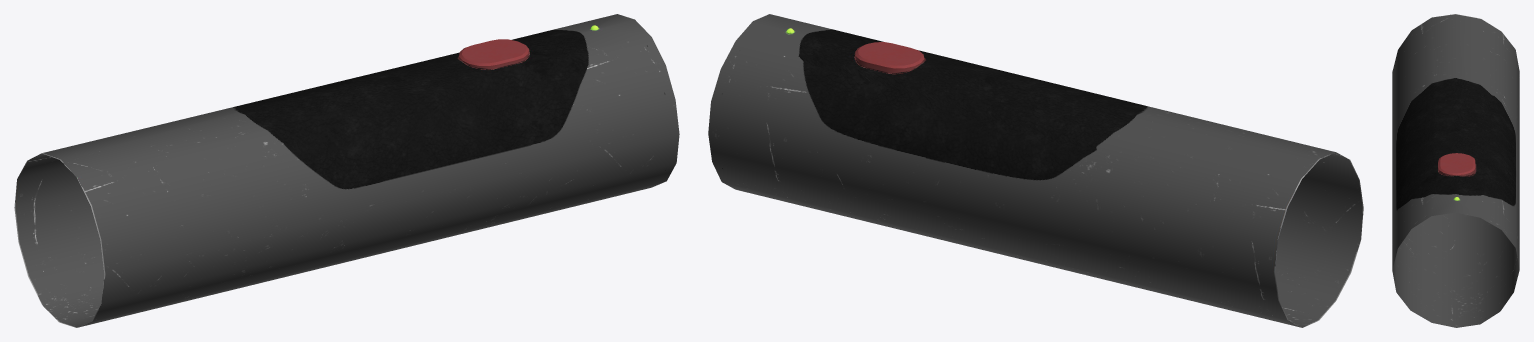
Rendered from grip_12_c_b.glb.
3 renders of one model, left to right at view 1: azimuth 30°, elevation 25°; view 2: azimuth 150°, elevation 25°; view 3: azimuth 270°, elevation 25°, orthographic. The views are drawn at different scales.
Visible parts, largest first — view 1: grip_12_c_b_lod0; view 2: grip_12_c_b_lod0; view 3: grip_12_c_b_lod0.
Part boxes in pixels (x1,y1,x2,y2): grip_12_c_b_lod0: (14, 14, 679, 327); grip_12_c_b_lod0: (708, 14, 1363, 327); grip_12_c_b_lod0: (1392, 14, 1519, 327).
Size of what is drawn, in the model's own units: 0.1058 by 0.0291 by 0.0286.
Materials: 1 (1 with a texture image).
